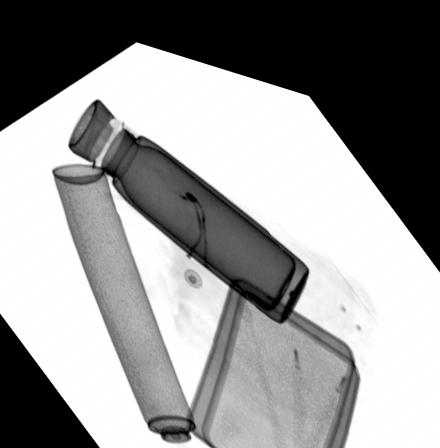Sprayer: (48, 157, 212, 448)
